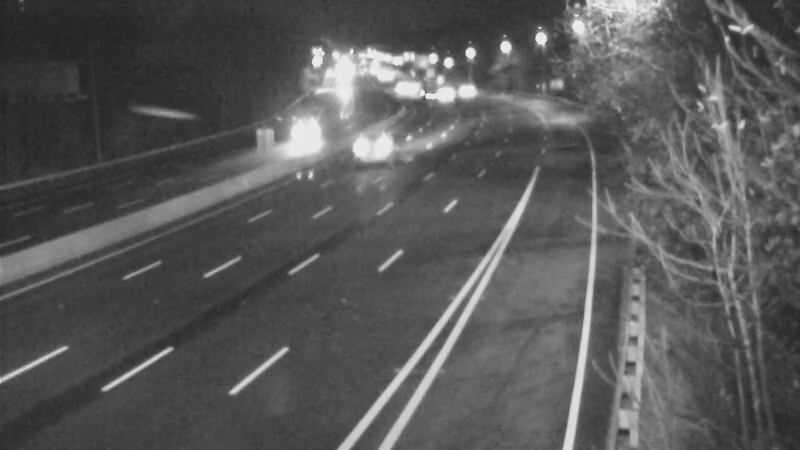vehicle: (417, 68, 467, 118), (443, 63, 493, 113), (351, 123, 401, 173), (282, 114, 332, 164)
